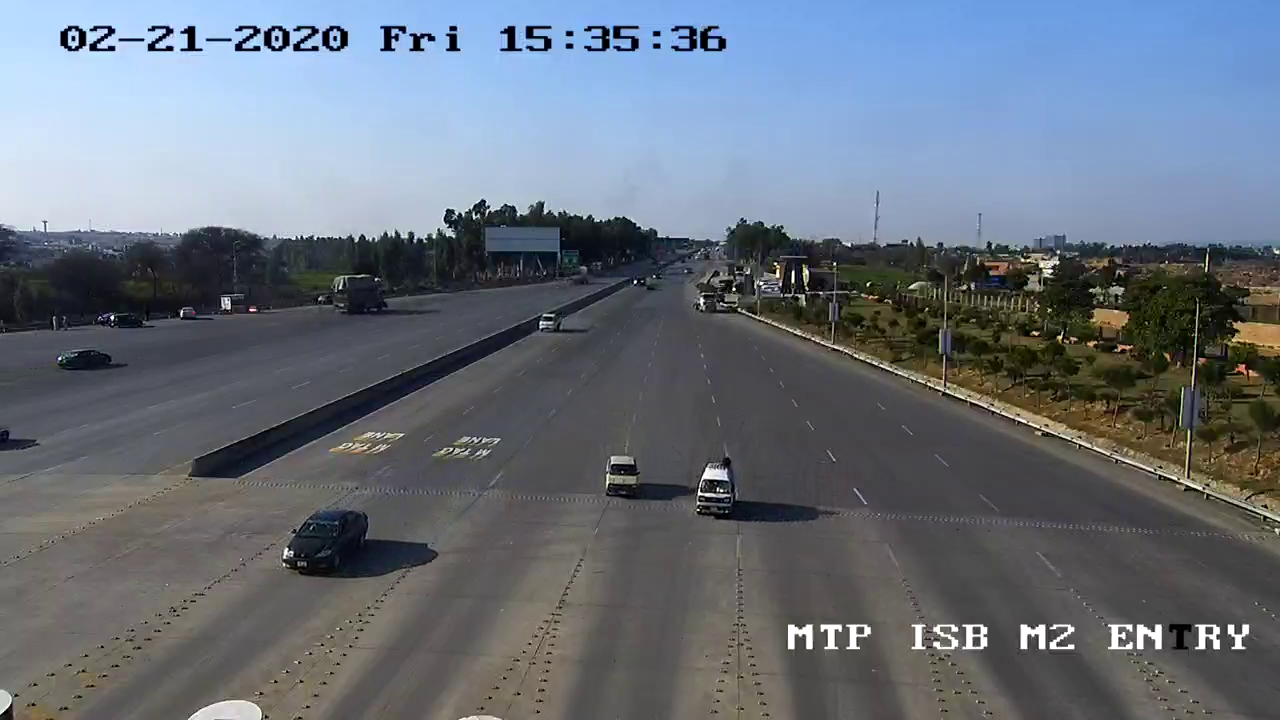f1: (266, 498, 379, 581), (685, 454, 745, 521), (594, 443, 651, 506)
